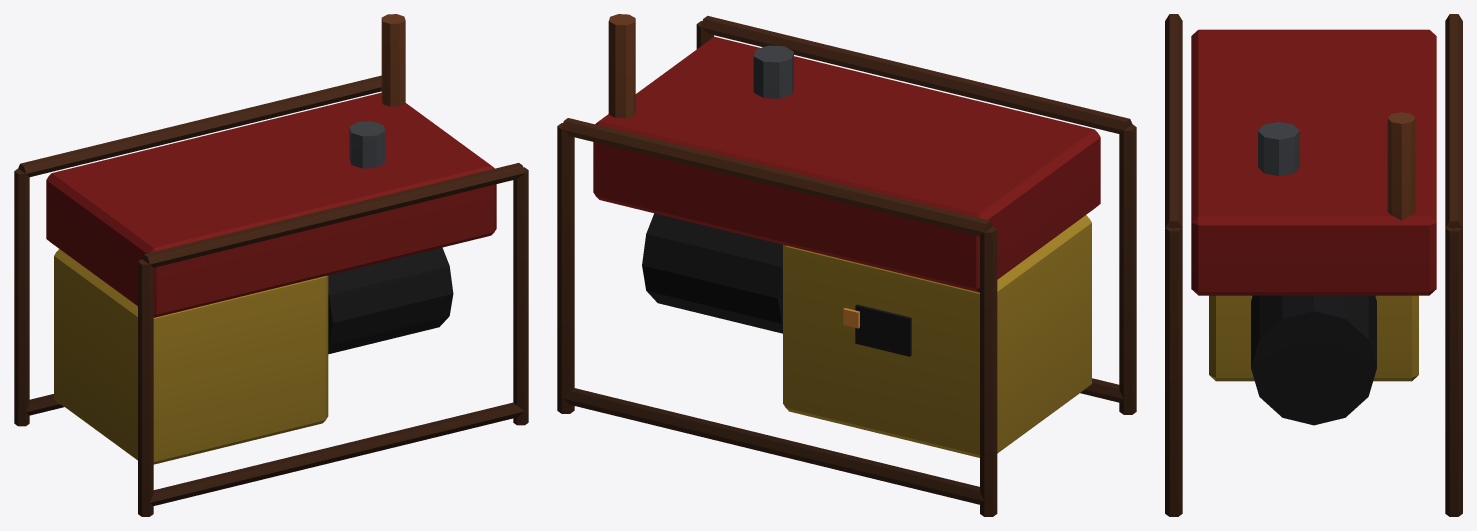
File: generator.glb
3 renders of one model, left to right at view 1: azimuth 30°, elevation 25°; view 2: azimuth 150°, elevation 25°; view 3: azimuth 270°, elevation 25°, orthographic. The views are drawn at different scales.
Visible parts, largest first — view 1: generator; view 2: generator; view 3: generator.
Part boxes in pixels (box(x1,y1,x2,y2)): generator: box(14, 14, 528, 516); generator: box(557, 14, 1136, 516); generator: box(1165, 14, 1462, 516).
Bounding box in the file's own units: 1.44 × 1.2 × 0.85.
